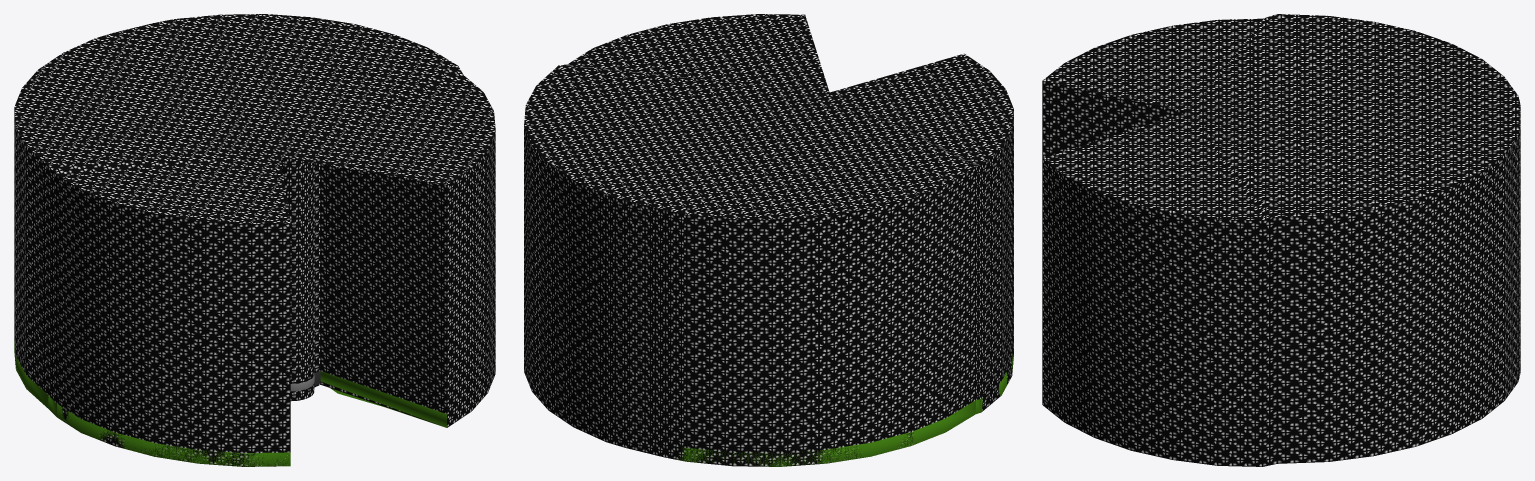
File: Lobby.fbx
3 views of the same model, side by side, from view 1: azimuth 30°, elevation 25°; view 2: azimuth 150°, elevation 25°; view 3: azimuth 270°, elevation 25° (orthographic).
Visible parts, largest first — view 1: Wall, Ground; view 2: Wall, Ground; view 3: Wall.
Boxes of the visible parts, x1,y1,x2,y2 form: Wall: (14,14,495,466); Ground: (14,340,446,466); Wall: (524,14,1013,466); Ground: (676,355,1012,466); Wall: (1042,14,1520,466).
Bounding box in the file's own units: 16695 × 9855 × 16609.
